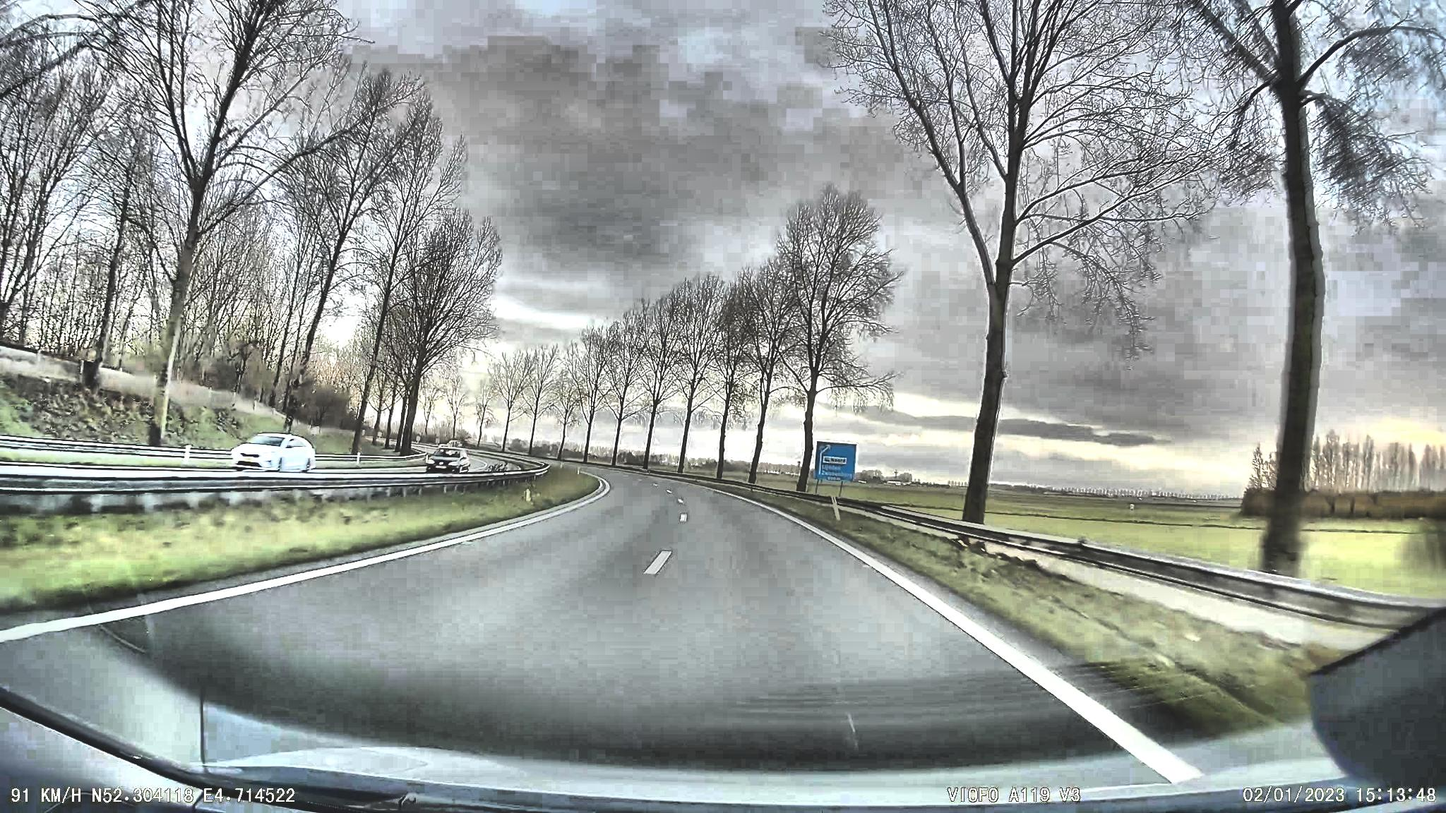Roads: (0, 466, 1164, 813)
